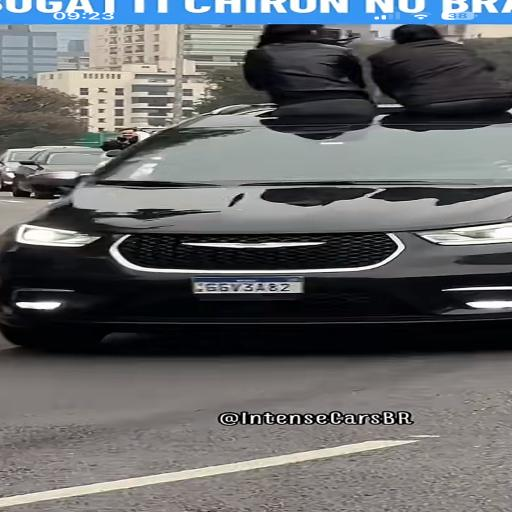detec-o-placas: (144, 253, 424, 337)
